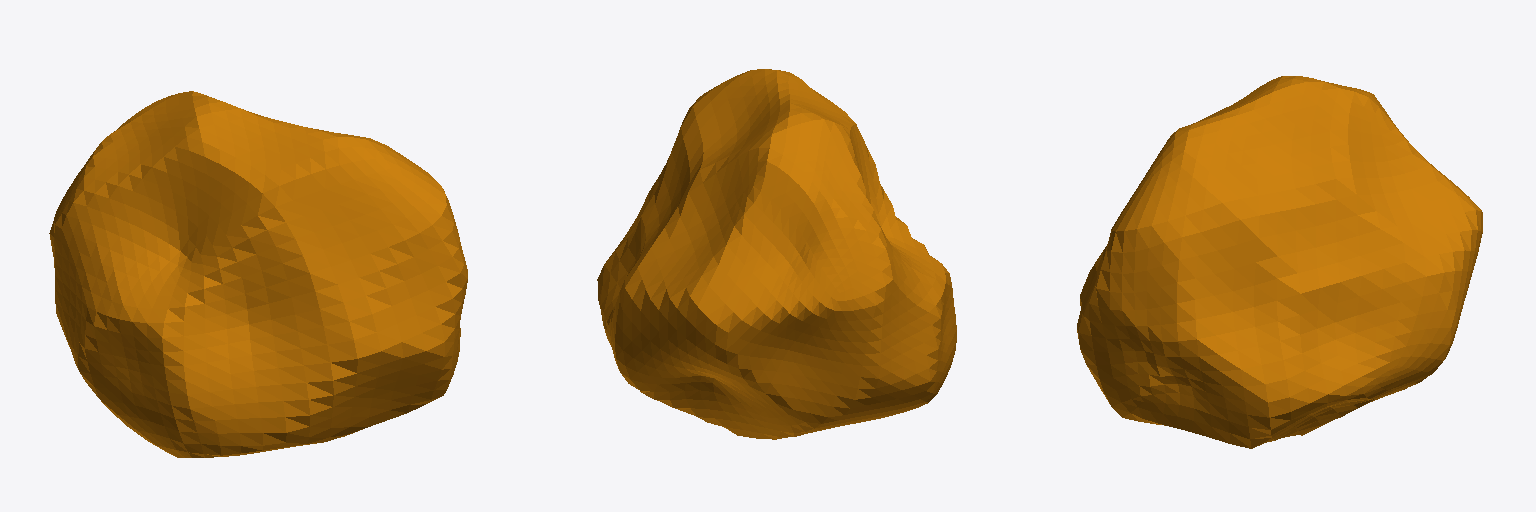
The model's file is fishesInSeaScene.obj.
The picture shows the model from 3 angles: view 1: azimuth 30°, elevation 25°; view 2: azimuth 150°, elevation 25°; view 3: azimuth 270°, elevation 25°; orthographic projection.
Visible parts, largest first — view 1: Cube.002; view 2: Cube.002; view 3: Cube.002.
Part boxes in pixels (bbox=[...]): Cube.002: bbox=[49, 91, 467, 457]; Cube.002: bbox=[597, 69, 956, 439]; Cube.002: bbox=[1077, 76, 1482, 448].
Bounding box in the file's own units: 1.08 × 0.9524 × 1.11.